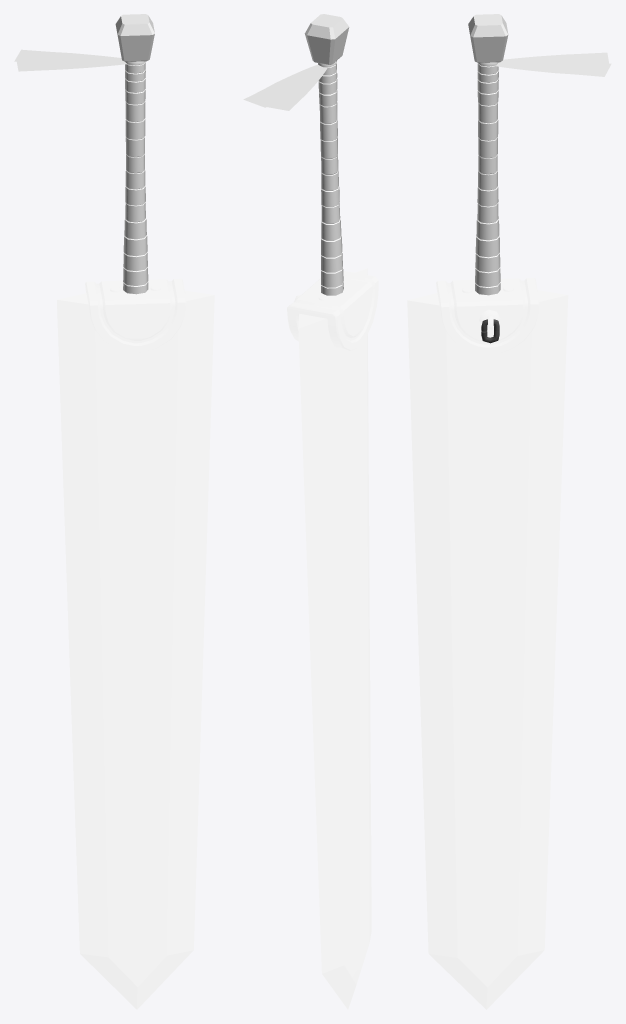
The model's file is espada-panic-diama.glb.
3 renders of one model, left to right at view 1: azimuth 90°, elevation 25°; view 2: azimuth 150°, elevation 25°; view 3: azimuth 270°, elevation 25°, orthographic.
Parts seen in each view (by area): view 1: Dragon Slayer, handle, fabric, pommel; view 2: Dragon Slayer, handle, fabric, pommel; view 3: Dragon Slayer, handle, fabric, pommel.
Part boxes in pixels (left/top/right/bottom): Dragon Slayer: left=57, top=278, right=214, bottom=1009; handle: left=123, top=61, right=148, bottom=294; fabric: left=14, top=49, right=126, bottom=71; pommel: left=115, top=14, right=154, bottom=61; Dragon Slayer: left=287, top=268, right=378, bottom=1009; handle: left=318, top=61, right=343, bottom=295; fabric: left=243, top=64, right=327, bottom=110; pommel: left=304, top=14, right=349, bottom=64; Dragon Slayer: left=407, top=278, right=568, bottom=1009; handle: left=475, top=62, right=500, bottom=295; fabric: left=494, top=52, right=611, bottom=76; pommel: left=468, top=14, right=508, bottom=62.
Bounding box in the file's own units: 0.1385 × 2.03 × 0.3768.
3 materials, 1 textured.
